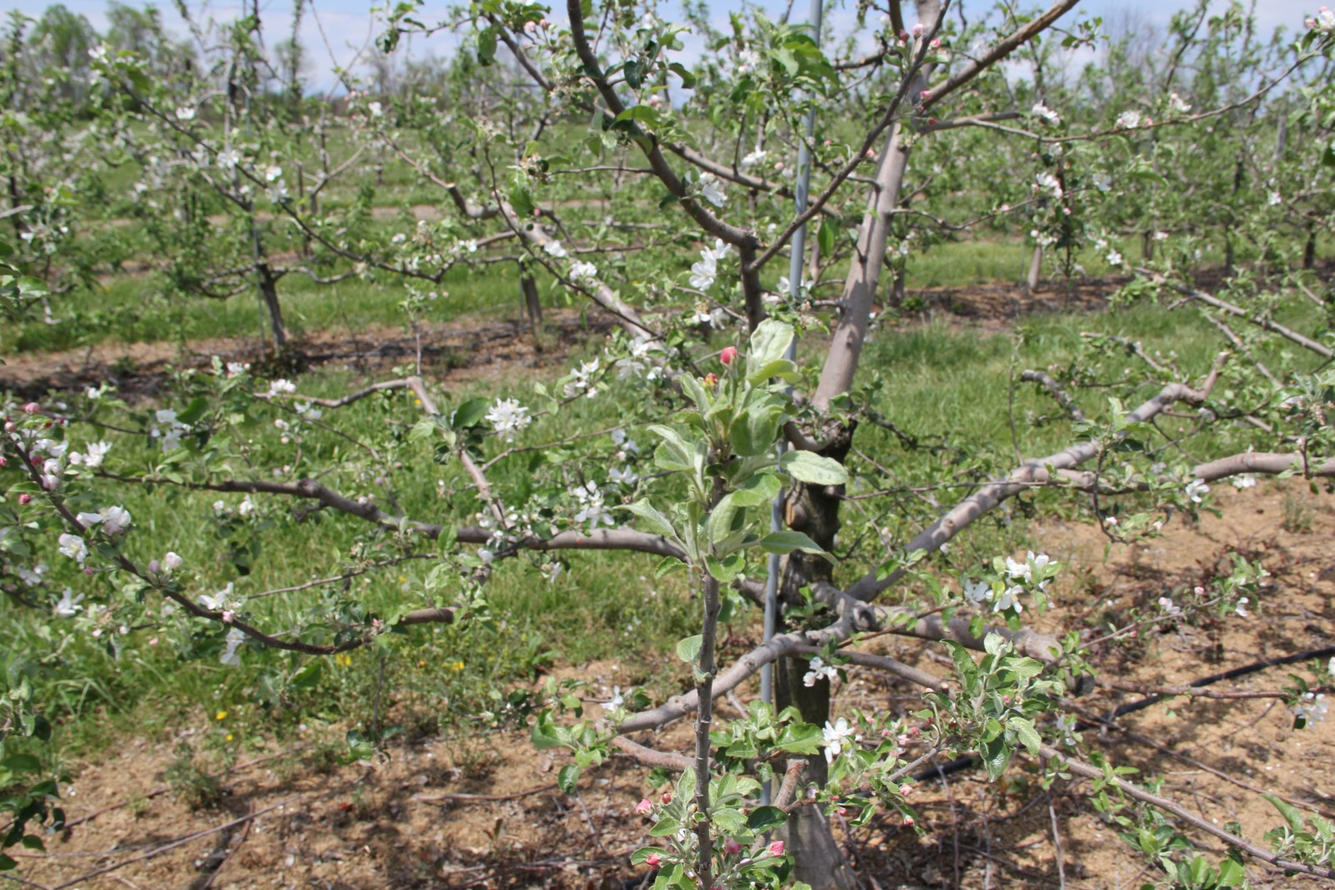flower: (575, 480, 622, 530), (690, 238, 733, 292), (994, 556, 1032, 613), (823, 717, 855, 763), (490, 396, 532, 431), (77, 505, 131, 529), (1295, 694, 1331, 730), (68, 440, 113, 467), (220, 627, 245, 668), (572, 356, 600, 388), (965, 580, 995, 608), (59, 534, 88, 562), (616, 356, 647, 381), (703, 180, 728, 207), (609, 462, 639, 484), (37, 439, 68, 458), (1186, 479, 1210, 503), (629, 334, 651, 356), (201, 596, 222, 610), (1035, 555, 1049, 569), (642, 358, 649, 366)
